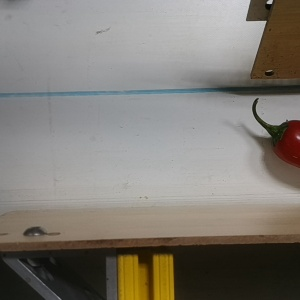Cut Point: (267, 114, 298, 163)
